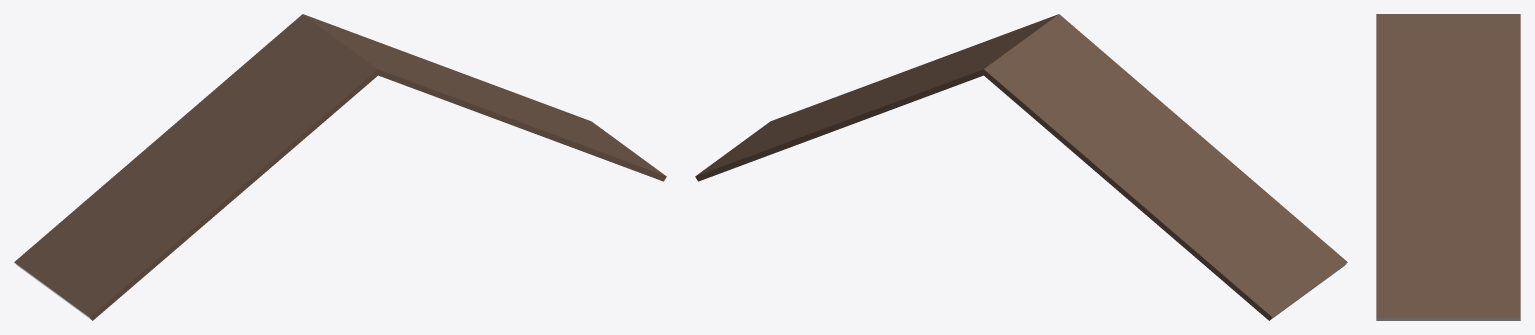
File: Roof4_C2_01.fbx
3 views of the same model, side by side, from view 1: azimuth 30°, elevation 25°; view 2: azimuth 150°, elevation 25°; view 3: azimuth 270°, elevation 25° (orthographic). The views are drawn at different scales.
Visible parts, largest first — view 1: Roof4_C2_01; view 2: Roof4_C2_01; view 3: Roof4_C2_01.
Part boxes in pixels (<box>): Roof4_C2_01: <box>14,14,666,320</box>; Roof4_C2_01: <box>695,14,1347,320</box>; Roof4_C2_01: <box>1376,14,1520,320</box>.
Size of the model in its own units: 1105 by 333 by 250.
